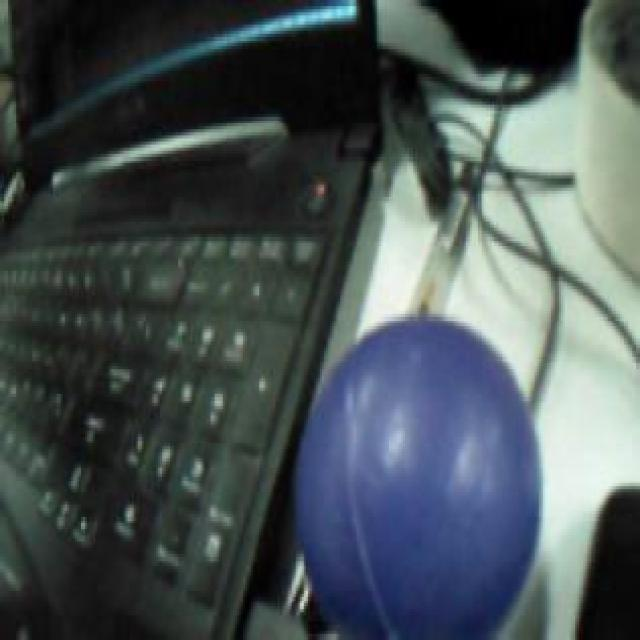BallPurple: (290, 313, 542, 640)
